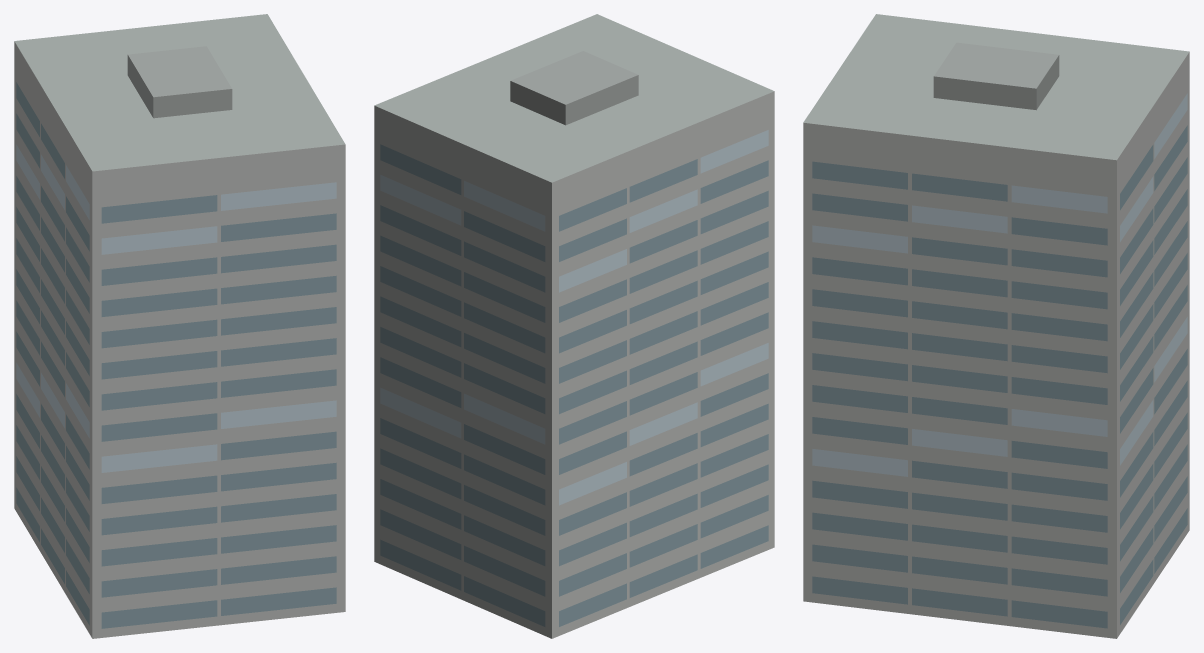
The model's file is fallback-olympic-park-foreon-314.glb.
3 views of the same model, side by side, from view 1: azimuth 30°, elevation 25°; view 2: azimuth 150°, elevation 25°; view 3: azimuth 270°, elevation 25° (orthographic). The views are drawn at different scales.
Parts seen in each view (by area): view 1: fallback-olympic-park-foreon-314; view 2: fallback-olympic-park-foreon-314; view 3: fallback-olympic-park-foreon-314.
Part boxes in pixels (x1=…): fallback-olympic-park-foreon-314: x1=14, y1=14, x2=345, y2=638; fallback-olympic-park-foreon-314: x1=374, y1=14, x2=774, y2=638; fallback-olympic-park-foreon-314: x1=803, y1=14, x2=1189, y2=638.
Bounding box in the file's own units: 29.98 × 47.81 × 33.48.
